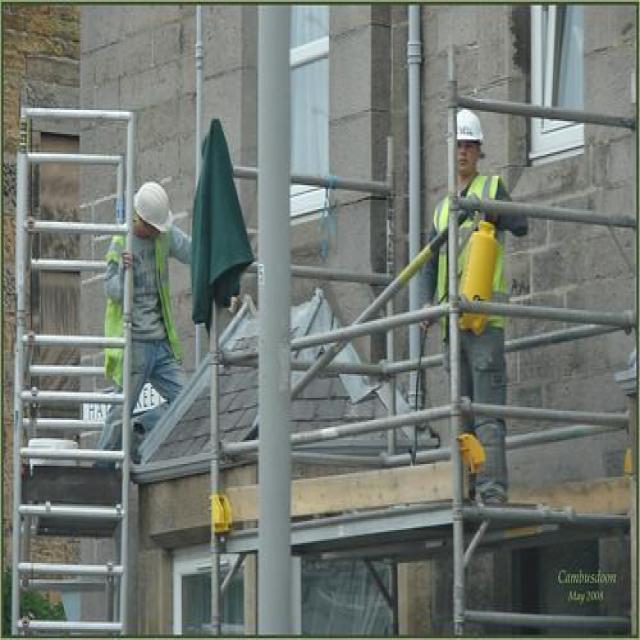Vest: (433, 172, 512, 341), (104, 215, 183, 382)
